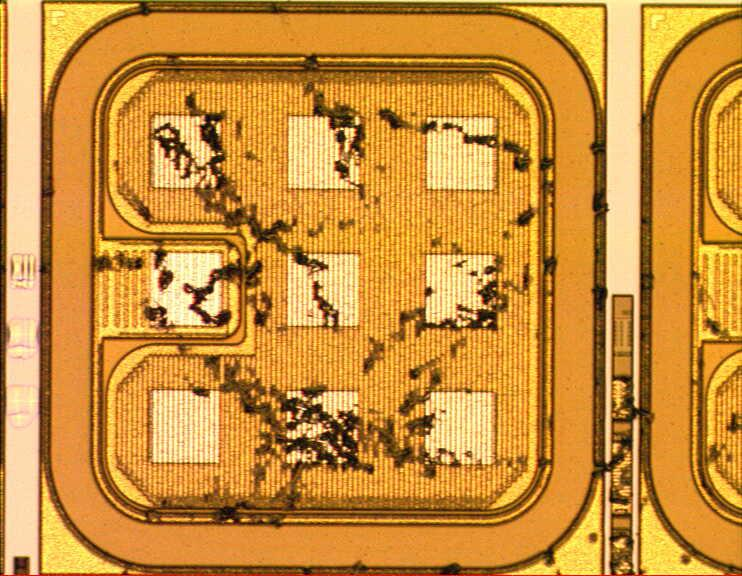SCRATCH: (85, 1, 742, 536)
